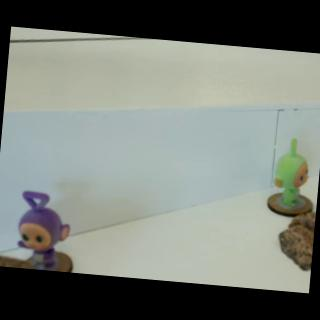teletubby: (18, 191, 69, 270), (274, 139, 308, 206)
